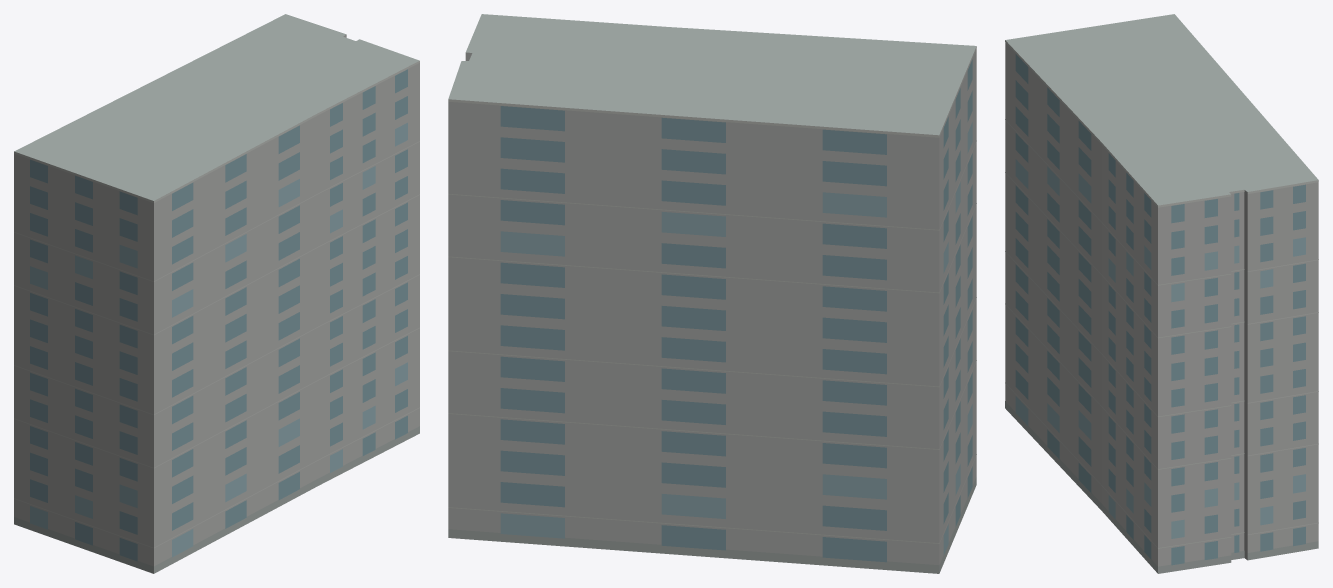
The model's file is survey-upis-32951447.glb.
3 views of the same model, side by side, from view 1: azimuth 30°, elevation 25°; view 2: azimuth 150°, elevation 25°; view 3: azimuth 270°, elevation 25° (orthographic). The views are drawn at different scales.
Visible parts, largest first — view 1: survey-upis-32951447.tmp; view 2: survey-upis-32951447.tmp; view 3: survey-upis-32951447.tmp.
Part boxes in pixels (bbox=[...]): survey-upis-32951447.tmp: bbox=[14, 14, 419, 573]; survey-upis-32951447.tmp: bbox=[448, 14, 976, 573]; survey-upis-32951447.tmp: bbox=[1005, 14, 1318, 573].
Bounding box in the file's own units: 47.08 × 42.19 × 32.58.
